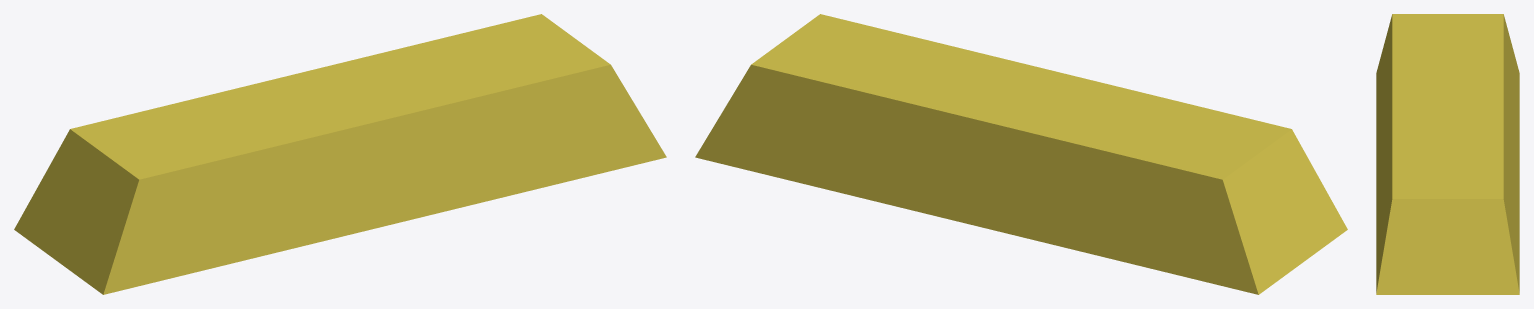
File: Prop_Sm_GoldBar_1.fbx
3 renders of one model, left to right at view 1: azimuth 30°, elevation 25°; view 2: azimuth 150°, elevation 25°; view 3: azimuth 270°, elevation 25°, orthographic. The views are drawn at different scales.
Parts seen in each view (by area): view 1: Gold_Bar; view 2: Gold_Bar; view 3: Gold_Bar.
Boxes of the visible parts, x1,y1,x2,y2 form: Gold_Bar: (14, 14, 666, 294); Gold_Bar: (695, 14, 1347, 294); Gold_Bar: (1376, 14, 1519, 294).
Bounding box in the file's own units: 0.6096 × 0.0999 × 0.1672.
